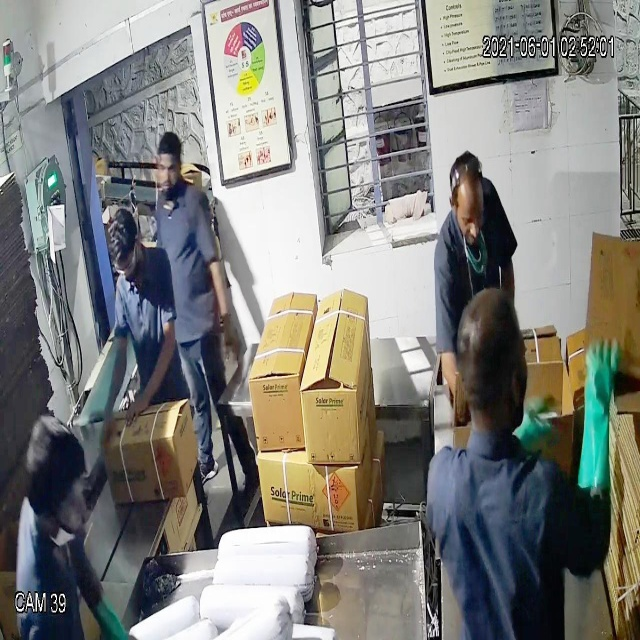Gafas: (107, 248, 142, 284)
Sin_gafas: (447, 200, 487, 235)
